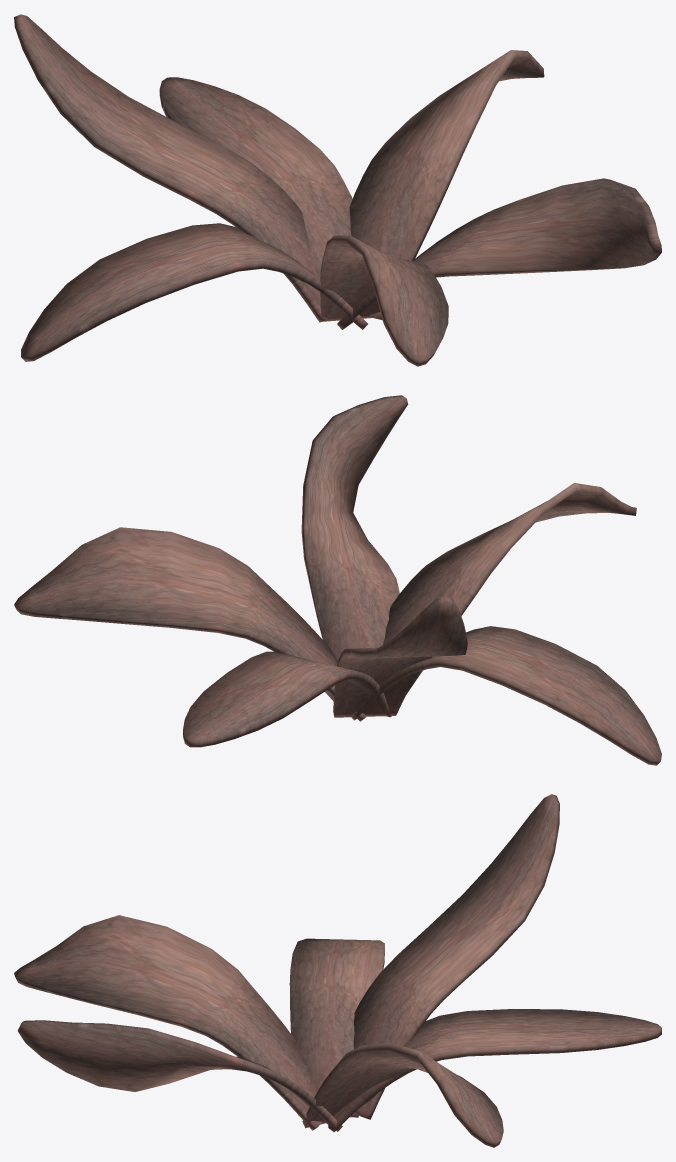
Rendered from calyx1_sb1_b.dae.
The picture shows the model from 3 angles, top to bottom: view 1: azimuth 30°, elevation 25°; view 2: azimuth 150°, elevation 25°; view 3: azimuth 270°, elevation 25°; orthographic projection. The views are drawn at different scales.
Visible parts, largest first — view 1: calyx2, calyx5, calyx3, calyx4_001, calyx1, calyx4; view 2: calyx4_001, calyx5, calyx3, calyx1, calyx4, calyx2; view 3: calyx4, calyx2, calyx5, calyx1, calyx3, calyx4_001.
Part boxes in pixels (bbox=[...]): calyx2: bbox=[14, 14, 327, 322]; calyx5: bbox=[337, 178, 661, 329]; calyx3: bbox=[21, 223, 367, 361]; calyx4_001: bbox=[349, 50, 544, 320]; calyx1: bbox=[159, 77, 352, 279]; calyx4: bbox=[320, 235, 448, 366]; calyx4_001: bbox=[14, 527, 366, 721]; calyx5: bbox=[301, 395, 408, 660]; calyx3: bbox=[351, 626, 661, 765]; calyx1: bbox=[183, 651, 390, 747]; calyx4: bbox=[383, 483, 636, 716]; calyx2: bbox=[333, 595, 467, 717]; calyx4: bbox=[14, 915, 322, 1130]; calyx2: bbox=[353, 794, 559, 1119]; calyx5: bbox=[17, 1020, 342, 1131]; calyx1: bbox=[328, 1009, 661, 1131]; calyx3: bbox=[289, 938, 384, 1117]; calyx4_001: bbox=[302, 1042, 503, 1147].
Size of the model in its own units: 0.0828 by 0.0864 by 0.0345.
6 materials, 6 textured.
